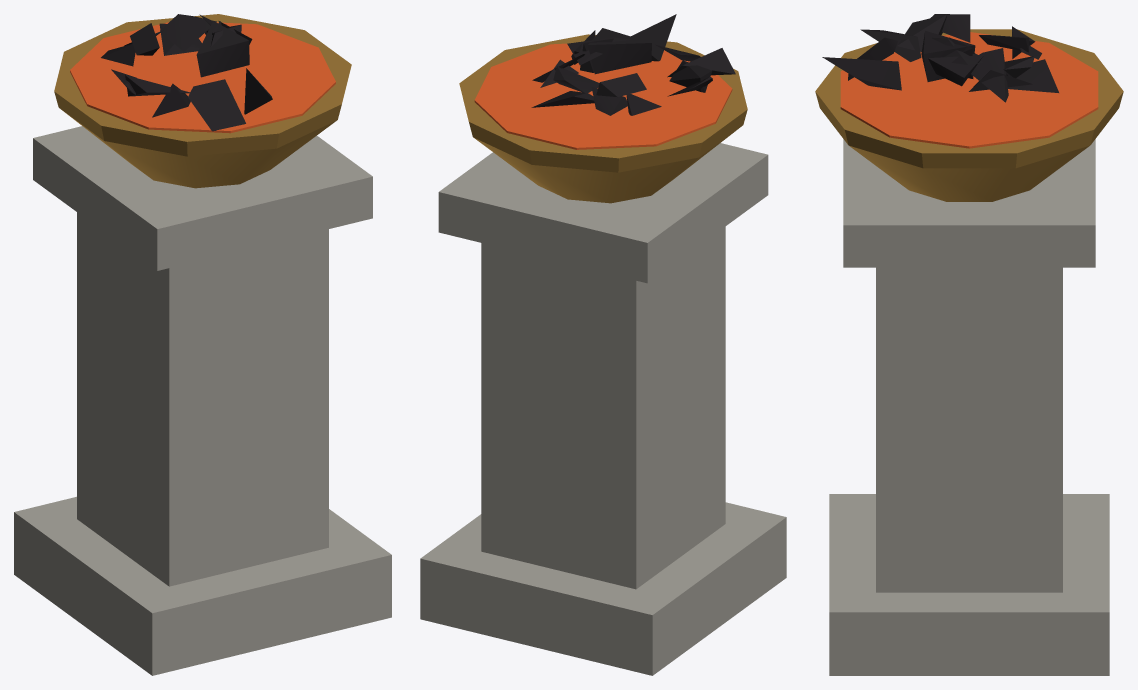
File: StoneBrazier.fbx
3 renders of one model, left to right at view 1: azimuth 30°, elevation 25°; view 2: azimuth 150°, elevation 25°; view 3: azimuth 270°, elevation 25°, orthographic. The views are drawn at different scales.
Parts seen in each view (by area): view 1: StoneBrazier; view 2: StoneBrazier; view 3: StoneBrazier.
Part boxes in pixels (bbox=[...]): StoneBrazier: bbox=[14, 14, 391, 675]; StoneBrazier: bbox=[420, 14, 786, 675]; StoneBrazier: bbox=[815, 14, 1123, 675].
Bounding box in the file's own units: 0.6277 × 1.37 × 0.66.
